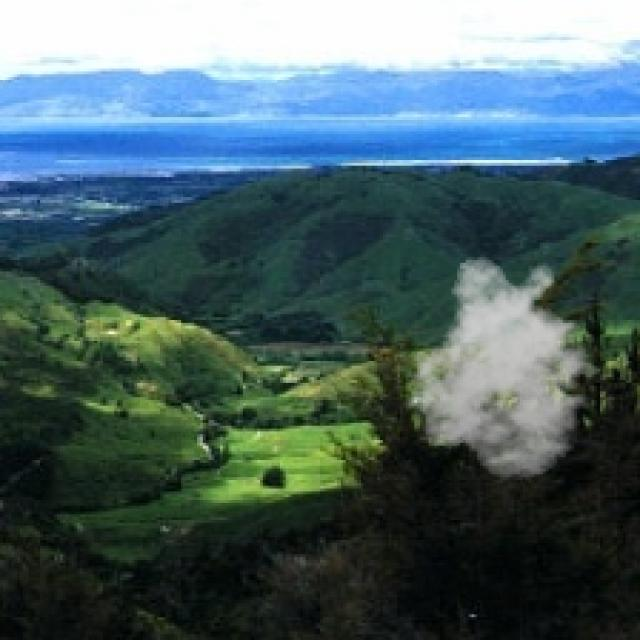smoke: (400, 254, 611, 480)
